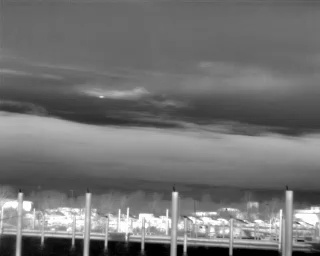BIRD: (98, 93, 106, 101)
